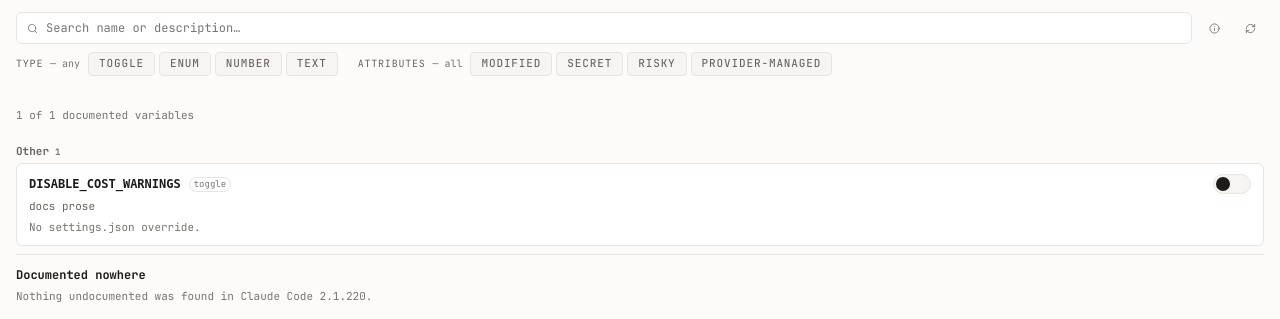
it: EnvVarsPane buckets › says so when a filter matches nothing, rather than going blank
The image size is (1280, 319).
Type "zzzznotathing" into the field named "Search environment variables" at (614, 28), box [46, 20, 1181, 36]
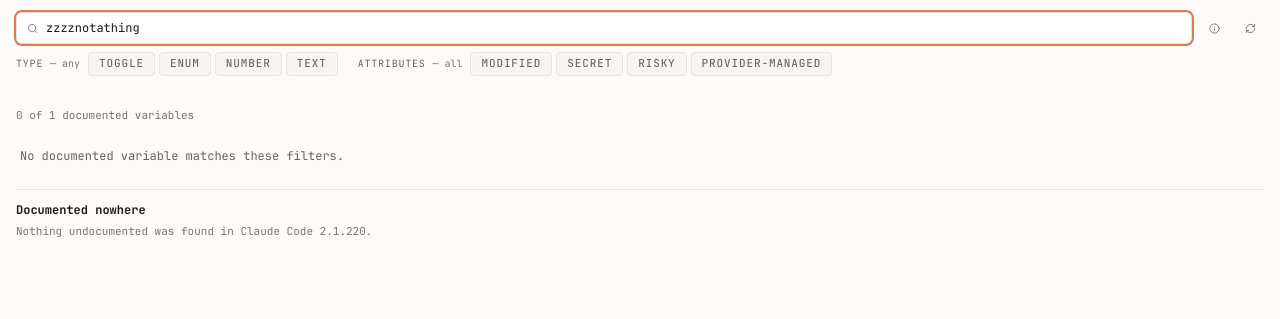
Check: the text "No documented variable matches these filters." is shown, box [20, 148, 344, 164]
Check: the text "0 of 1 documented variables" is shown, box [16, 108, 194, 122]
